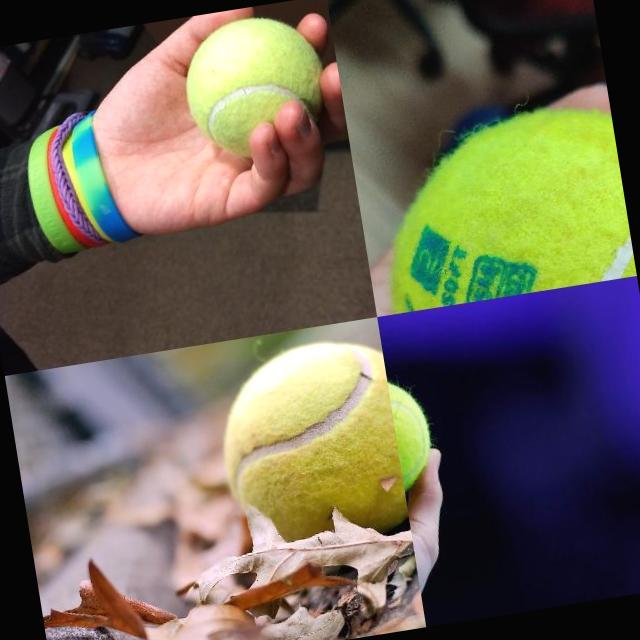Tennis Ball: (367, 104, 636, 314), (208, 331, 410, 559), (176, 8, 335, 168), (386, 369, 439, 500)
